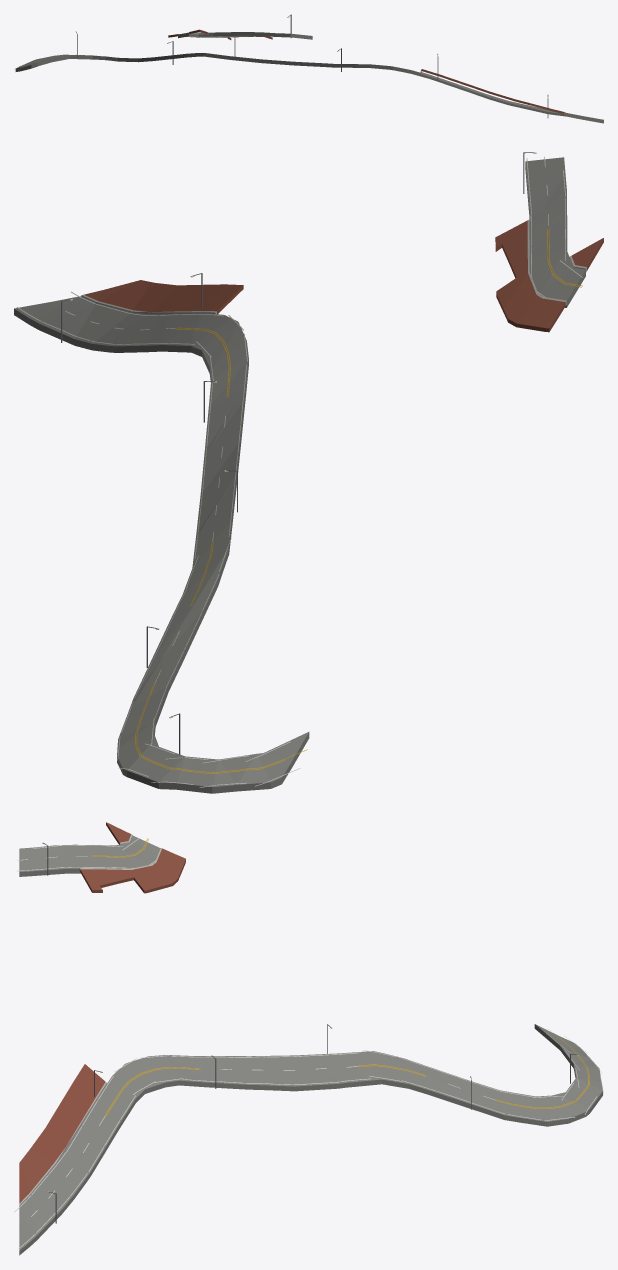
The picture shows the model from 3 angles, top to bottom: view 1: azimuth 30°, elevation 25°; view 2: azimuth 150°, elevation 25°; view 3: azimuth 270°, elevation 25°; orthographic projection. The views are drawn at different scales.
Bounding box in the file's own units: 126 × 65.2 × 134.
